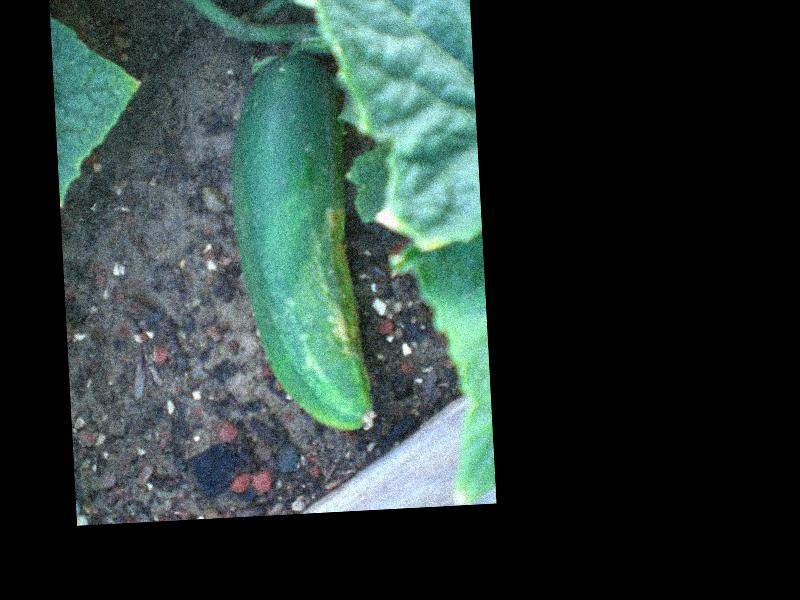Cucumber: (226, 52, 376, 436)
